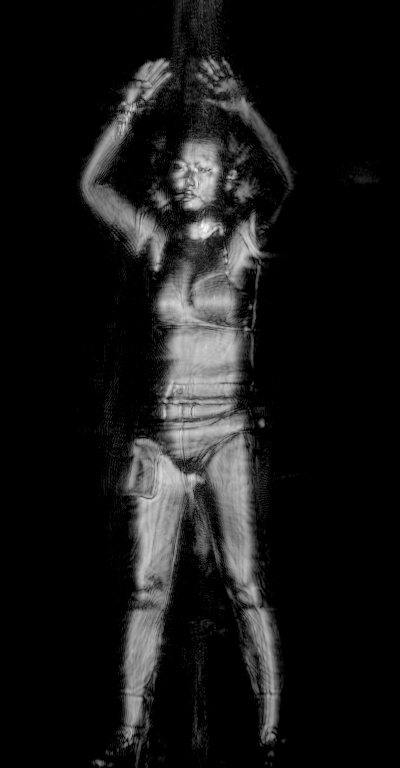head: (165, 134, 240, 221)
others: (123, 436, 164, 500), (115, 98, 135, 136)
person: (78, 48, 294, 768)
